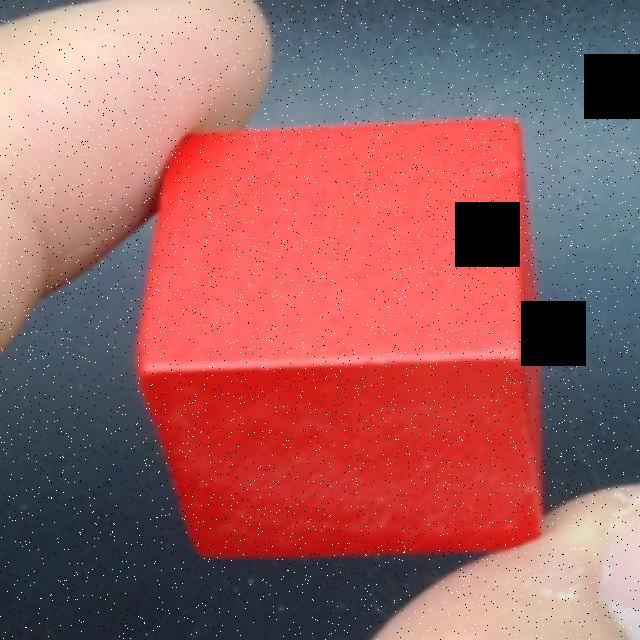red cube: (134, 117, 543, 560)
